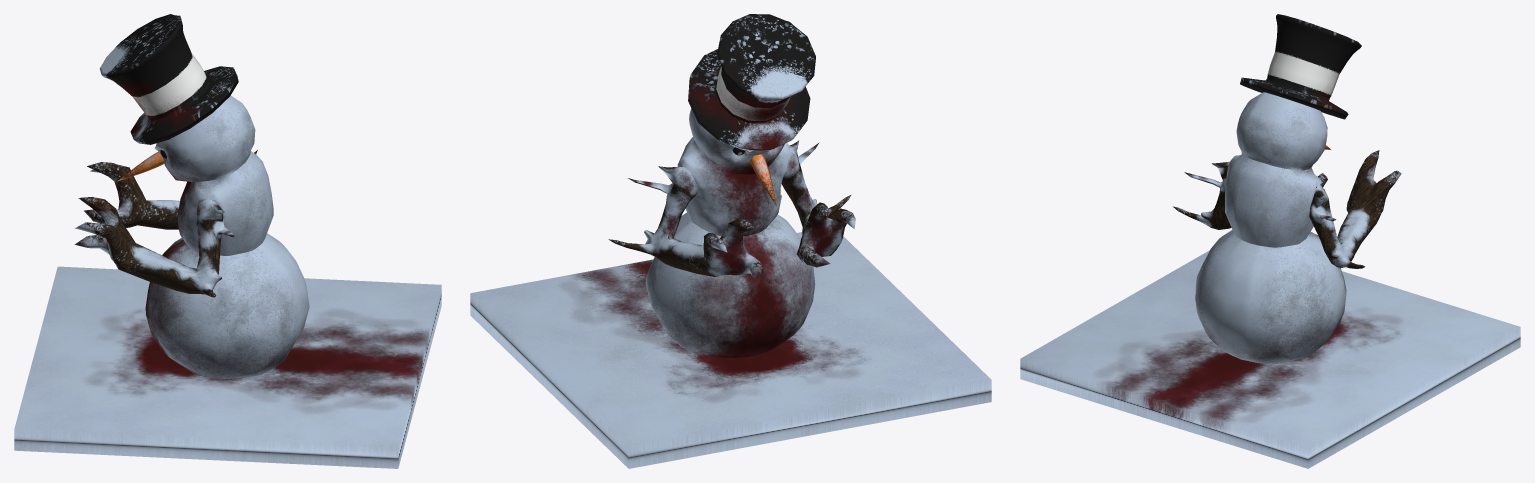
The model's file is dmuñecodenievemontaña_lev5.glb.
3 views of the same model, side by side, from view 1: azimuth 30°, elevation 25°; view 2: azimuth 150°, elevation 25°; view 3: azimuth 270°, elevation 25° (orthographic). The views are drawn at different scales.
Parts seen in each view (by area): view 1: Pavimento1_Pavimento1_0.001, SnowMan1_SnowMan1_0.001, Cappello1_Cappello1_0.001, Braccia_e__Mani1_Braccia_e__Mani1_0.001, Carota1_Carota1_0.001; view 2: Pavimento1_Pavimento1_0.001, SnowMan1_SnowMan1_0.001, Cappello1_Cappello1_0.001, Braccia_e__Mani1_Braccia_e__Mani1_0.001, Carota1_Carota1_0.001; view 3: Pavimento1_Pavimento1_0.001, SnowMan1_SnowMan1_0.001, Cappello1_Cappello1_0.001, Braccia_e__Mani1_Braccia_e__Mani1_0.001.
Part boxes in pixels (x1,y1,x2,y2): Pavimento1_Pavimento1_0.001: [14, 266, 441, 468]; SnowMan1_SnowMan1_0.001: [145, 95, 309, 379]; Cappello1_Cappello1_0.001: [99, 14, 238, 144]; Braccia_e__Mani1_Braccia_e__Mani1_0.001: [75, 150, 257, 297]; Carota1_Carota1_0.001: [117, 151, 163, 181]; Pavimento1_Pavimento1_0.001: [470, 232, 991, 468]; SnowMan1_SnowMan1_0.001: [645, 108, 815, 357]; Cappello1_Cappello1_0.001: [688, 14, 815, 150]; Braccia_e__Mani1_Braccia_e__Mani1_0.001: [608, 140, 855, 278]; Carota1_Carota1_0.001: [750, 154, 776, 205]; Pavimento1_Pavimento1_0.001: [1020, 250, 1520, 468]; SnowMan1_SnowMan1_0.001: [1195, 92, 1346, 363]; Cappello1_Cappello1_0.001: [1240, 14, 1361, 119]; Braccia_e__Mani1_Braccia_e__Mani1_0.001: [1173, 150, 1401, 268].
Size of the model in its own units: 69.09 by 50.07 by 69.09.
6 materials, 6 textured.
